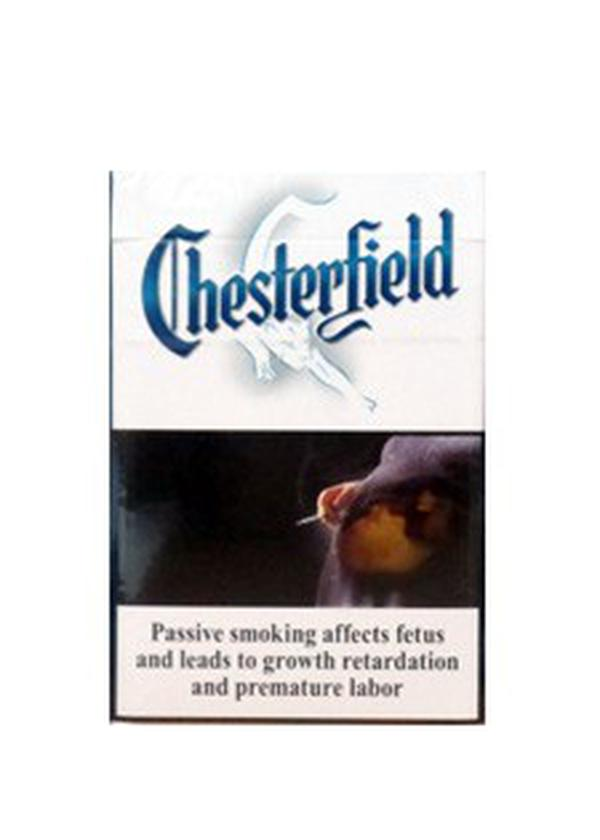chesterfield_blue: (107, 174, 484, 726)
